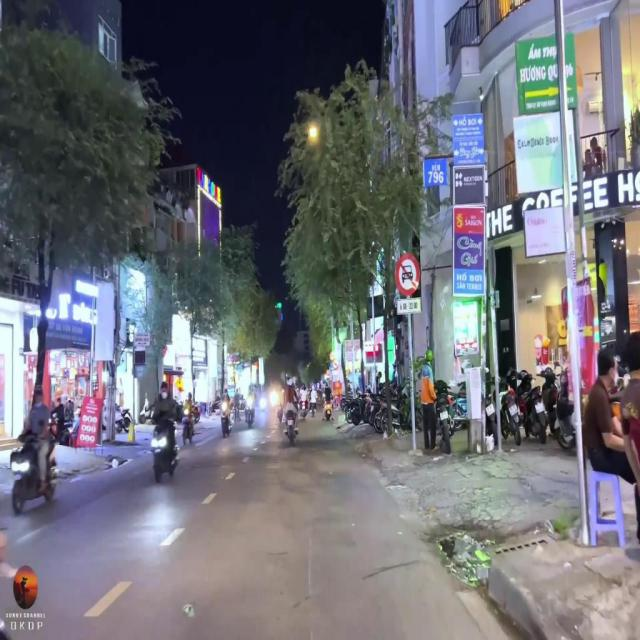cam_o_to: (395, 254, 420, 297)
khac: (397, 298, 421, 314)
